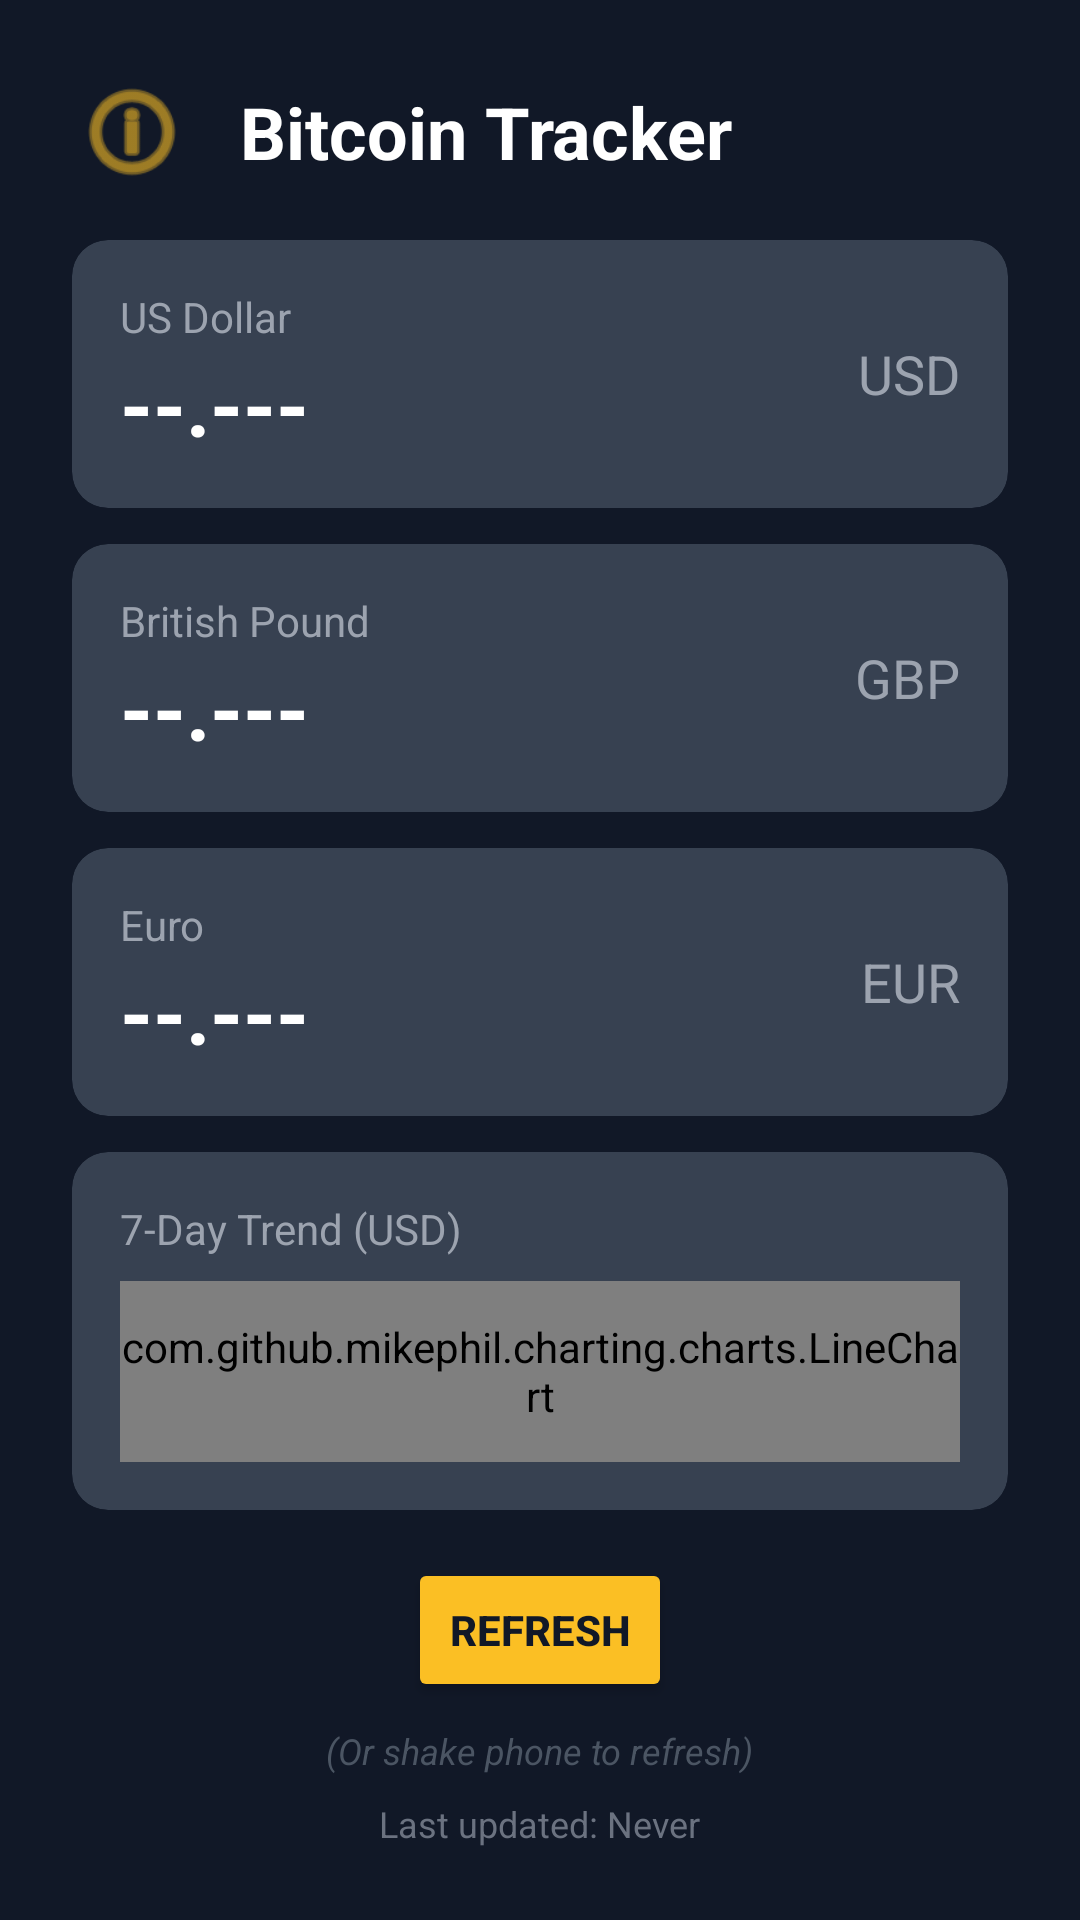

Locate icon controls on the screen. Image size 1080*1920, boxes as (x1, y1, x2, y2).
info details: (89, 89, 175, 175)
